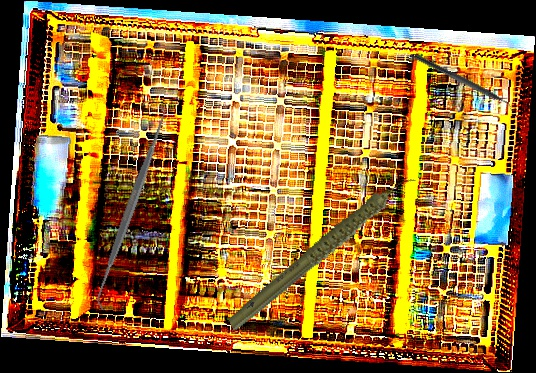Chopper: (409, 53, 520, 116)
Handpiece: (205, 172, 442, 334)
Spatula Surgical: (83, 104, 179, 312)
